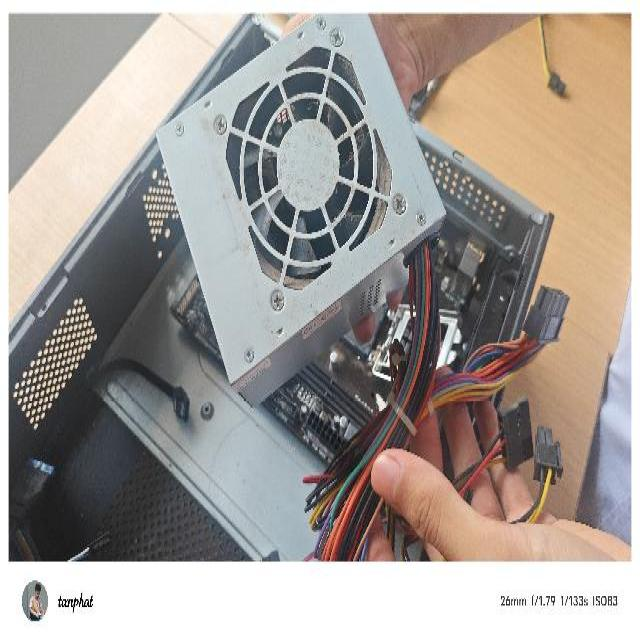PSU: (150, 15, 462, 407)
